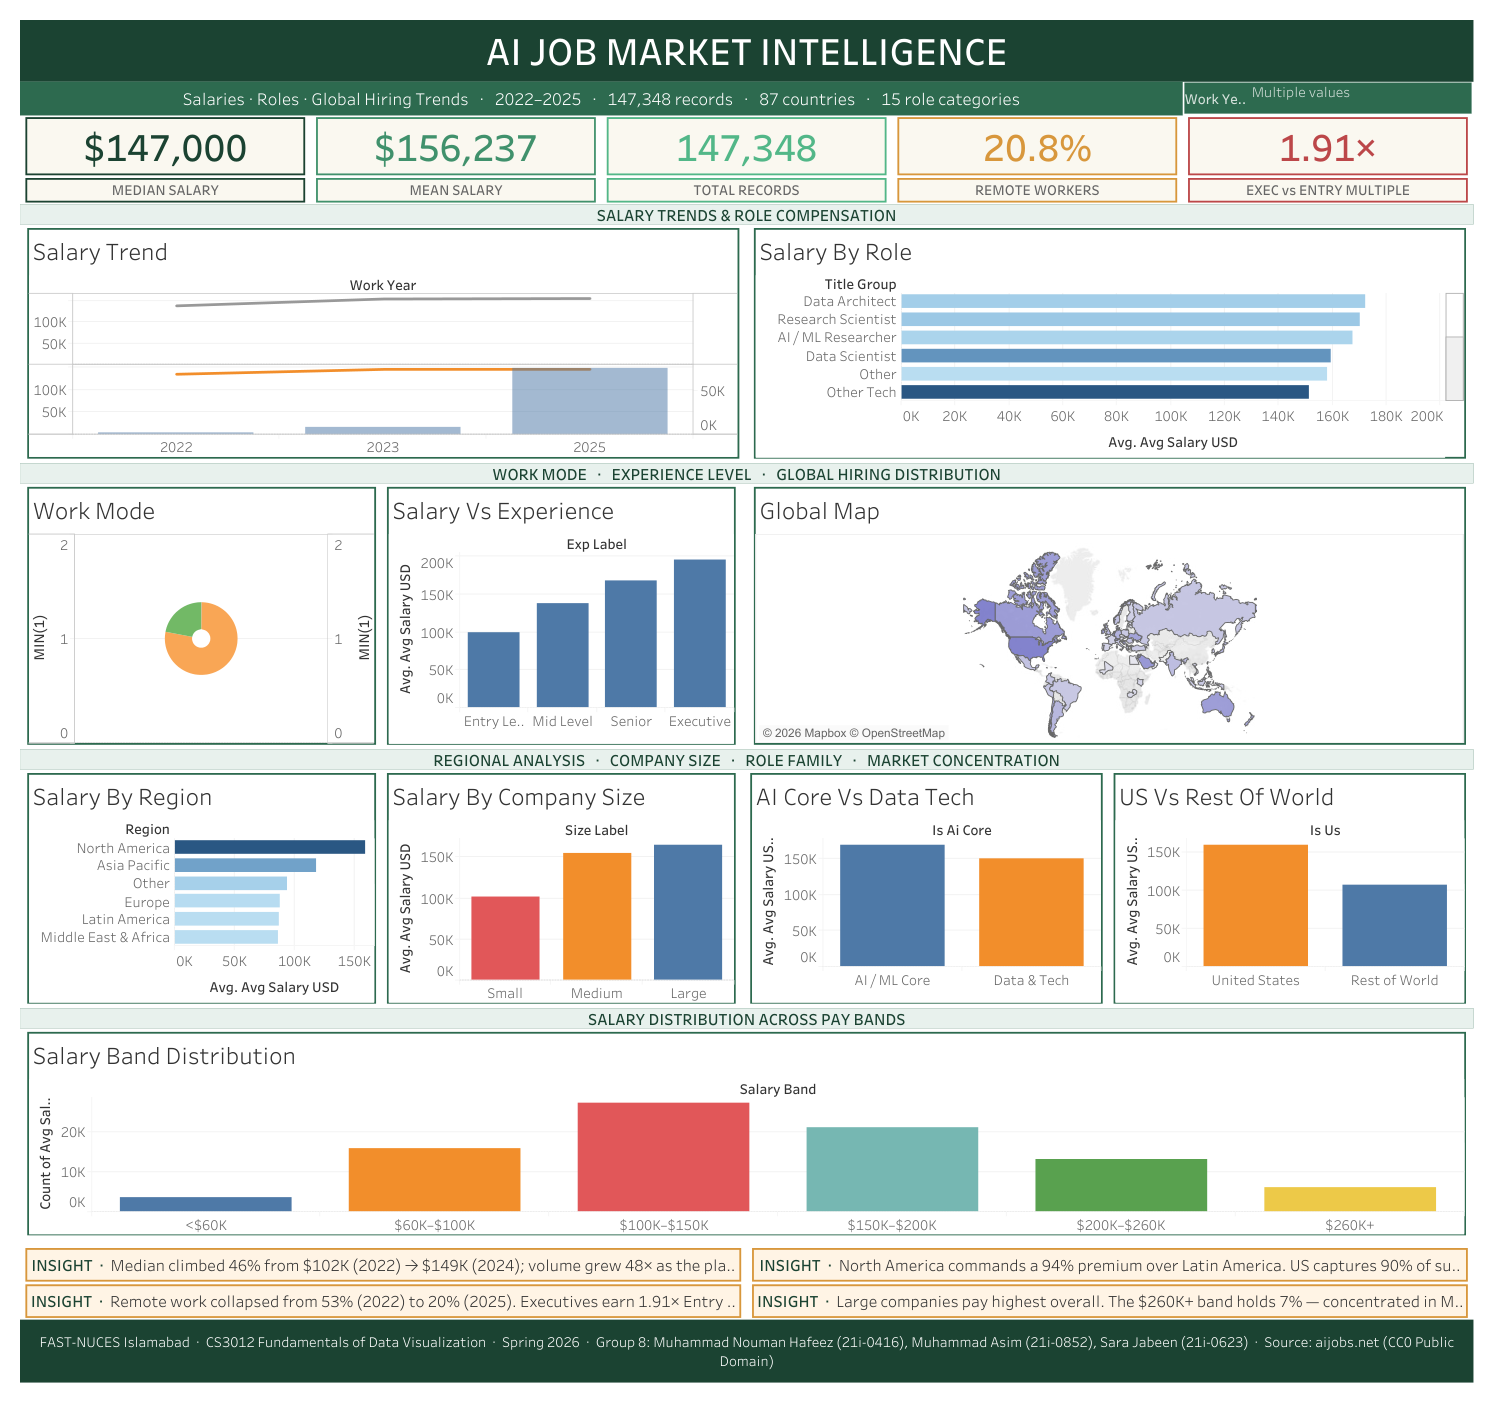

This screenshot's page, from the dashboard's own definition file:
{"tool":"tableau","page":{"name":"AI Salary Analysis Dashboard","canvas":[1200,900],"ordinal":0},"visuals":[{"type":"text","box":[0,0,1200,72]},{"type":"text","box":[0,72,960,31.5]},{"type":"filter","title":"Salary Trend","param":"[federated.05inboi0wzrr0v142b3wi0dmgvdt].[none:work_year:ok]","box":[960,72,240,31.5]},{"type":"text","box":[3,108,234,72]},{"type":"text","box":[243,108,234,72]},{"type":"text","box":[483,108,234,72]},{"type":"text","box":[723,108,234,72]},{"type":"text","box":[963,108,234,72]},{"type":"text","box":[3,180,234,31.5]},{"type":"text","box":[243,180,234,31.5]},{"type":"text","box":[483,180,234,31.5]},{"type":"text","box":[723,180,234,31.5]},{"type":"text","box":[963,180,234,31.5]},{"type":"text","box":[0,211.5,1200,22.5]},{"type":"worksheet","title":"Salary Trend","mark":"Line","rows":["Calculation_2517673566556160","Calculation_2517673566556160","Calculation_2517673566556160"],"cols":["work_year"],"box":[3,234,594,274.5]},{"type":"worksheet","title":"Salary By Role","mark":"Automatic","rows":["title_group"],"cols":["Calculation_2517673566556160"],"box":[603,234,594,274.5]},{"type":"text","box":[0,508.5,1200,22.5]},{"type":"worksheet","title":"Work Mode","mark":"Pie","rows":["Calculation_2517673571315716","Calculation_2517673571373062"],"box":[3,531,294,288]},{"type":"worksheet","title":"Salary Vs Experience","mark":"Automatic","rows":["Calculation_2517673566556160"],"cols":["exp_label"],"box":[300,531,294,288]},{"type":"worksheet","title":"Global Map","mark":"Multipolygon","box":[603,531,594,288]},{"type":"text","box":[3,823.5,594,40.5]},{"type":"text","box":[603,823.5,594,40.5]},{"type":"text","box":[0,864,1200,36]}]}

Visuals, with their boxes on the page's 1200x900 design canvas (x1, y1, x2, y2). These are canvas units, not pixel positions in the 1494x1403 screenshot, which may show the page scaled, cropped or inside an application window:
text: x1=0 y1=0 x2=1200 y2=72
text: x1=0 y1=72 x2=960 y2=104
"Salary Trend" filter: x1=960 y1=72 x2=1200 y2=104
text: x1=3 y1=108 x2=237 y2=180
text: x1=243 y1=108 x2=477 y2=180
text: x1=483 y1=108 x2=717 y2=180
text: x1=723 y1=108 x2=957 y2=180
text: x1=963 y1=108 x2=1197 y2=180
text: x1=3 y1=180 x2=237 y2=212
text: x1=243 y1=180 x2=477 y2=212
text: x1=483 y1=180 x2=717 y2=212
text: x1=723 y1=180 x2=957 y2=212
text: x1=963 y1=180 x2=1197 y2=212
text: x1=0 y1=212 x2=1200 y2=234
"Salary Trend" worksheet (Line marks): x1=3 y1=234 x2=597 y2=508
"Salary By Role" worksheet: x1=603 y1=234 x2=1197 y2=508
text: x1=0 y1=508 x2=1200 y2=531
"Work Mode" worksheet (Pie marks): x1=3 y1=531 x2=297 y2=819
"Salary Vs Experience" worksheet: x1=300 y1=531 x2=594 y2=819
"Global Map" worksheet (Multipolygon marks): x1=603 y1=531 x2=1197 y2=819
text: x1=3 y1=824 x2=597 y2=864
text: x1=603 y1=824 x2=1197 y2=864
text: x1=0 y1=864 x2=1200 y2=900
